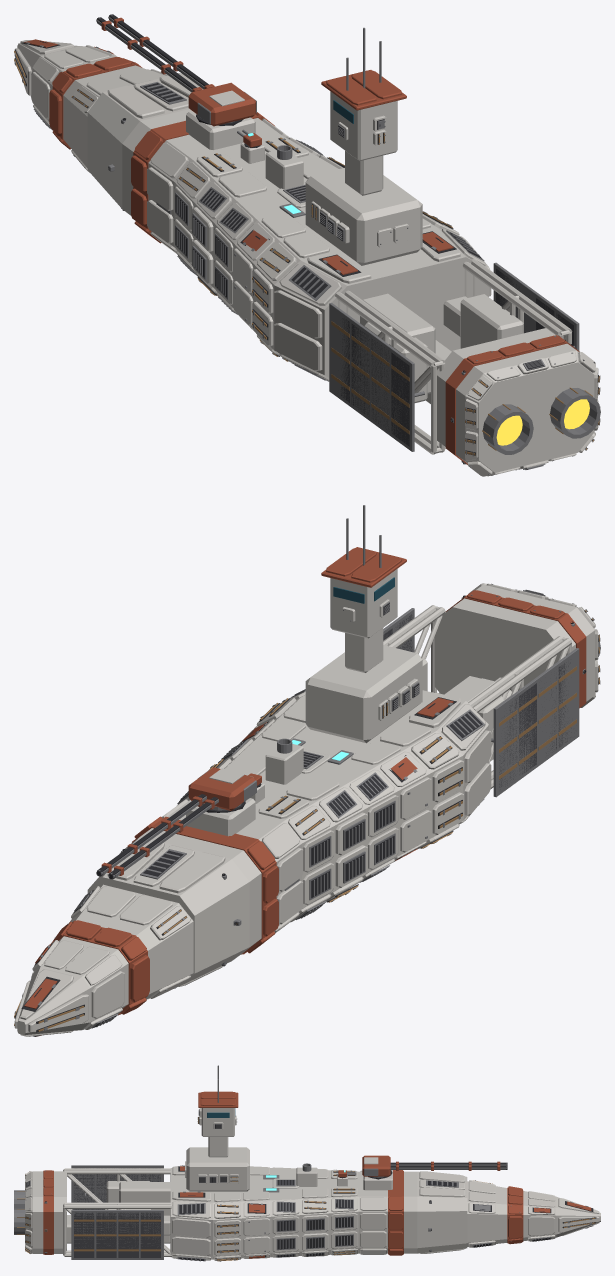
The model's file is mars_starter_escort.glb.
3 views of the same model, one above another, from view 1: azimuth 30°, elevation 25°; view 2: azimuth 150°, elevation 25°; view 3: azimuth 270°, elevation 25° (orthographic). The views are drawn at different scales.
Parts seen in each view (by area): view 1: FleetHull, mesh_turret_gun_1, mesh_recoil_gun_1; view 2: FleetHull, mesh_recoil_gun_1, mesh_turret_gun_1; view 3: FleetHull, mesh_recoil_gun_1, mesh_turret_gun_1.
Part boxes in pixels (bbox=[...]): FleetHull: bbox=[14, 27, 600, 476]; mesh_turret_gun_1: bbox=[188, 82, 256, 126]; mesh_recoil_gun_1: bbox=[96, 14, 214, 92]; FleetHull: bbox=[14, 505, 600, 1036]; mesh_recoil_gun_1: bbox=[96, 794, 218, 879]; mesh_turret_gun_1: bbox=[188, 767, 256, 810]; FleetHull: bbox=[14, 1065, 600, 1261]; mesh_recoil_gun_1: bbox=[390, 1161, 507, 1170]; mesh_turret_gun_1: bbox=[362, 1155, 390, 1177].
Bounding box in the file's own units: 47.94 × 75.96 × 221.
